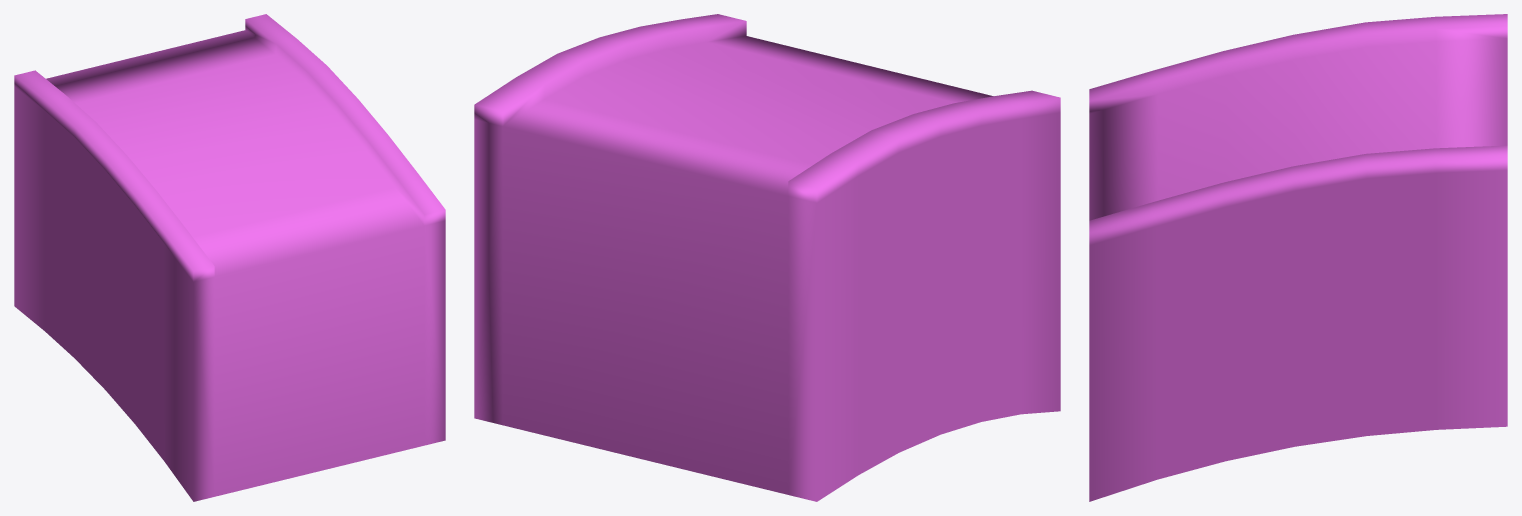
The model's file is RD_Dip_Bridge1_Half1.fbx.
The picture shows the model from 3 angles, left to right: view 1: azimuth 30°, elevation 25°; view 2: azimuth 150°, elevation 25°; view 3: azimuth 270°, elevation 25°; orthographic projection. The views are drawn at different scales.
Parts seen in each view (by area): view 1: Mesh; view 2: Mesh; view 3: Mesh.
Part boxes in pixels (x1,y1,x2,y2): Mesh: (14, 14, 445, 501); Mesh: (474, 14, 1060, 501); Mesh: (1089, 14, 1507, 501).
Bounding box in the file's own units: 480 × 537 × 591.
